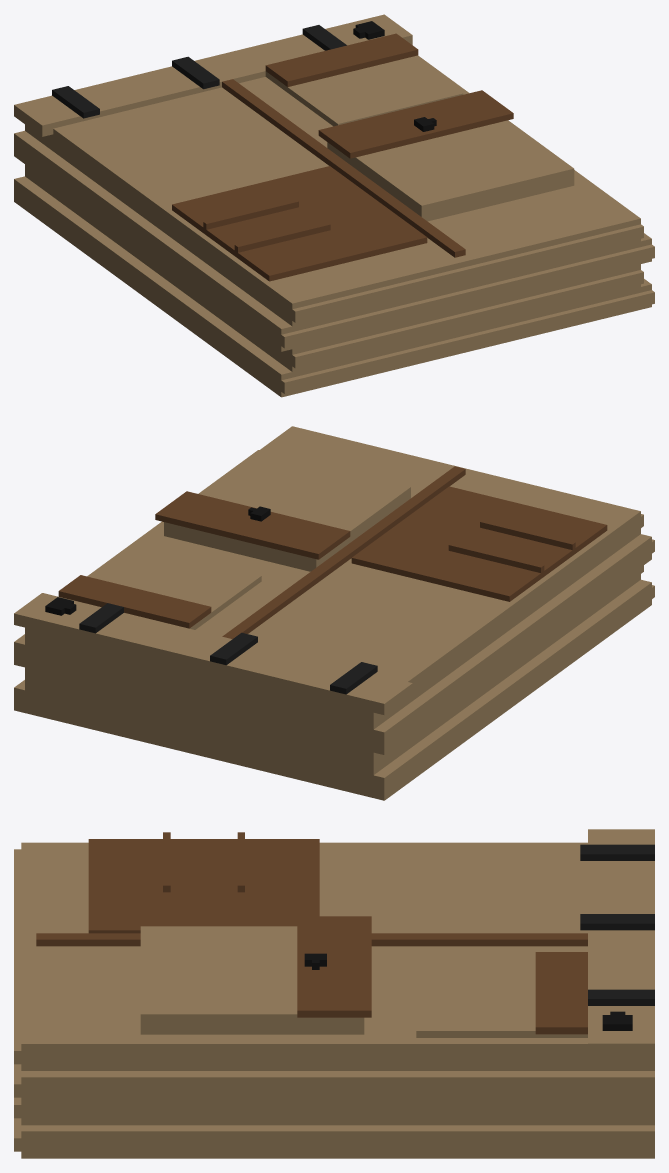
File: pants_tactical.glb
The picture shows the model from 3 angles, top to bottom: view 1: azimuth 30°, elevation 25°; view 2: azimuth 150°, elevation 25°; view 3: azimuth 270°, elevation 25°; orthographic projection. The views are drawn at different scales.
Parts seen in each view (by area): view 1: pants_tactical:compound; view 2: pants_tactical:compound; view 3: pants_tactical:compound.
Boxes of the visible parts, box(x1,y1,x2,y2) form: pants_tactical:compound: box(14, 14, 654, 397); pants_tactical:compound: box(14, 426, 654, 800); pants_tactical:compound: box(14, 829, 654, 1158).
Bounding box in the file's own units: 0.272 × 0.084 × 0.344.
